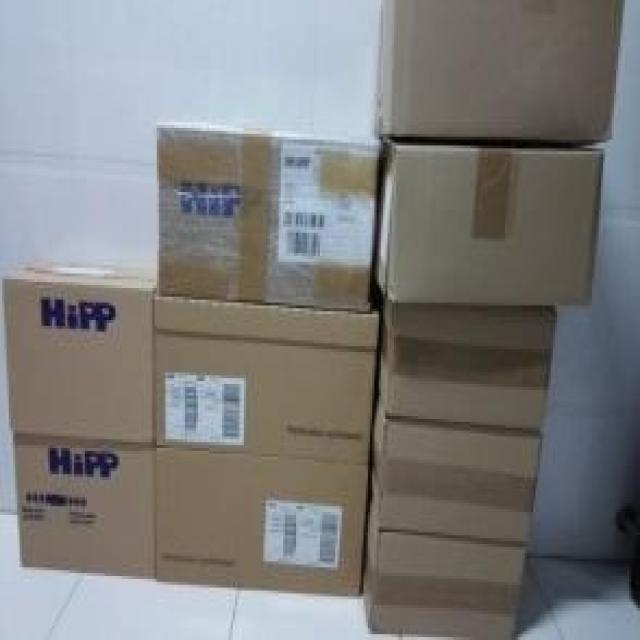box: (157, 120, 380, 307), (374, 139, 604, 306), (154, 298, 380, 464), (370, 3, 625, 147), (155, 446, 369, 597), (2, 253, 156, 444), (370, 284, 558, 432), (368, 389, 542, 543), (359, 483, 525, 637), (14, 440, 154, 580)
